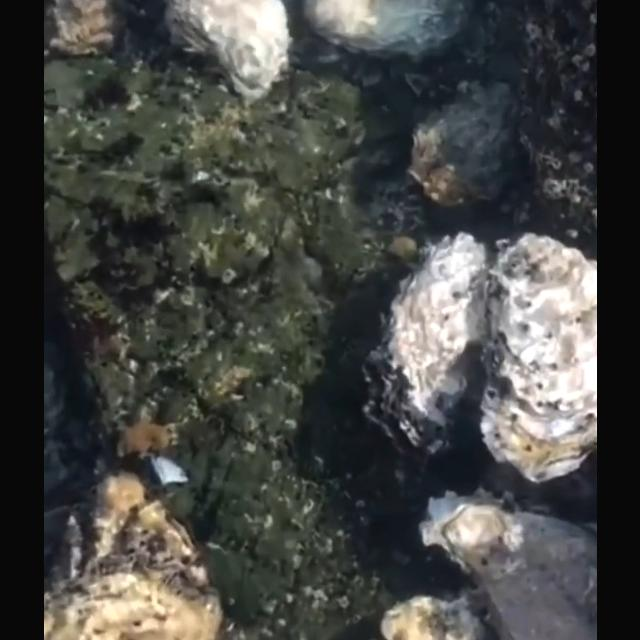Oyster-Closed: (44, 464, 226, 640), (478, 231, 596, 485), (419, 484, 596, 640), (160, 0, 292, 106), (405, 84, 517, 208), (302, 0, 462, 58), (380, 592, 486, 640), (42, 0, 123, 58)
Oyster-Open: (361, 228, 491, 462)
